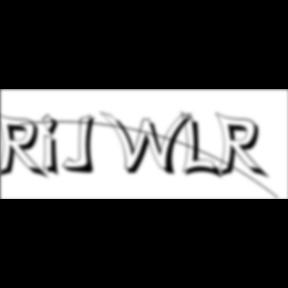J: (62, 114, 101, 176)
L: (181, 110, 225, 182)
R: (216, 112, 272, 182), (0, 112, 52, 182)
W: (100, 110, 198, 178)
i: (42, 112, 66, 180)
